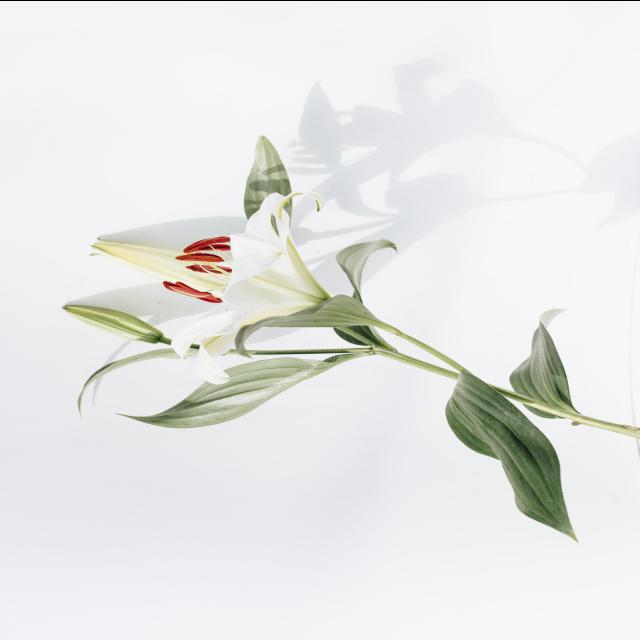lily: (158, 155, 354, 383)
